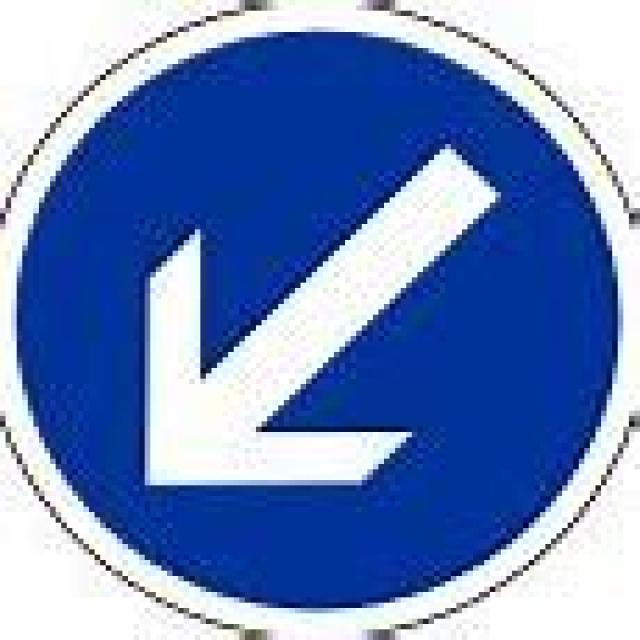compulsory_cycle_track: (0, 0, 634, 634)
